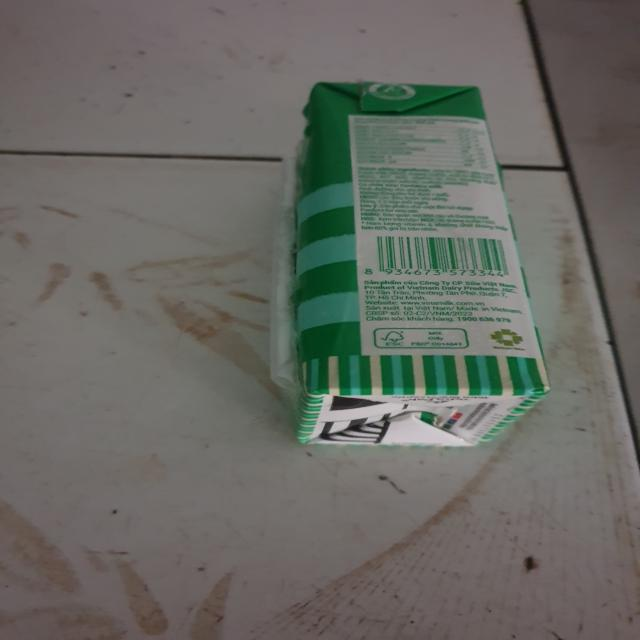Vina: (286, 80, 551, 452)
